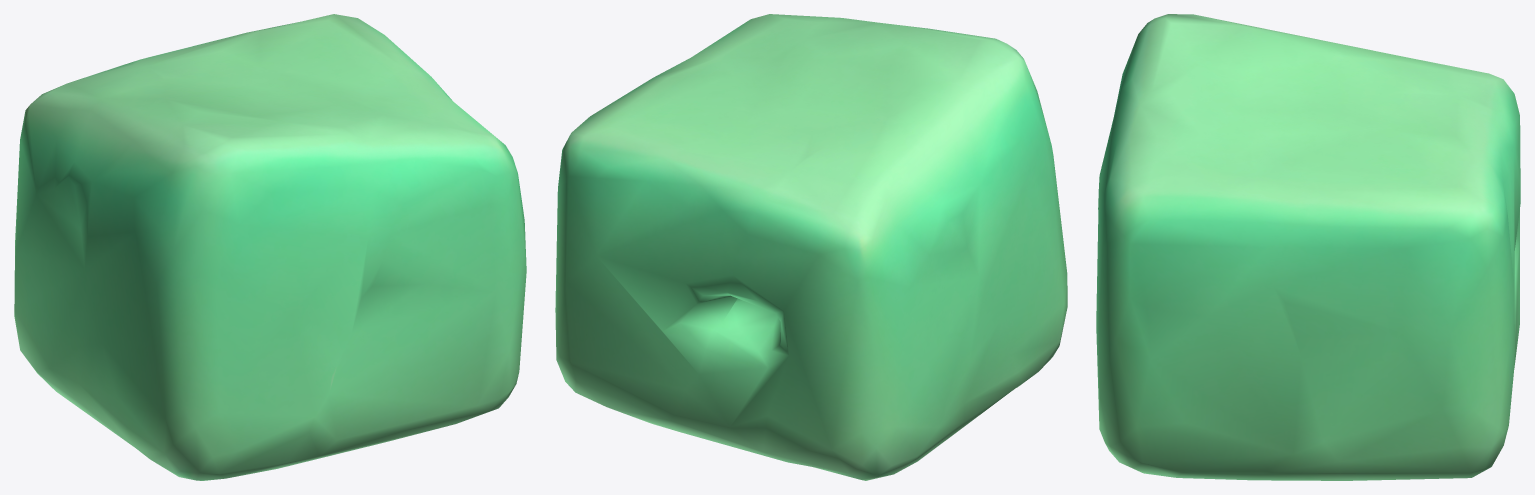
The model's file is block_of_ice_0704152623_refine.obj.
3 renders of one model, left to right at view 1: azimuth 30°, elevation 25°; view 2: azimuth 150°, elevation 25°; view 3: azimuth 270°, elevation 25°, orthographic. The views are drawn at different scales.
Parts seen in each view (by area): view 1: Mesh_0; view 2: Mesh_0; view 3: Mesh_0.
Part boxes in pixels (box(x1,y1,x2,y2)): Mesh_0: box(14, 14, 526, 480); Mesh_0: box(555, 14, 1067, 480); Mesh_0: box(1096, 14, 1520, 480).
Bounding box in the file's own units: 1.2 × 1.06 × 1.17.
1 material, 1 textured.
